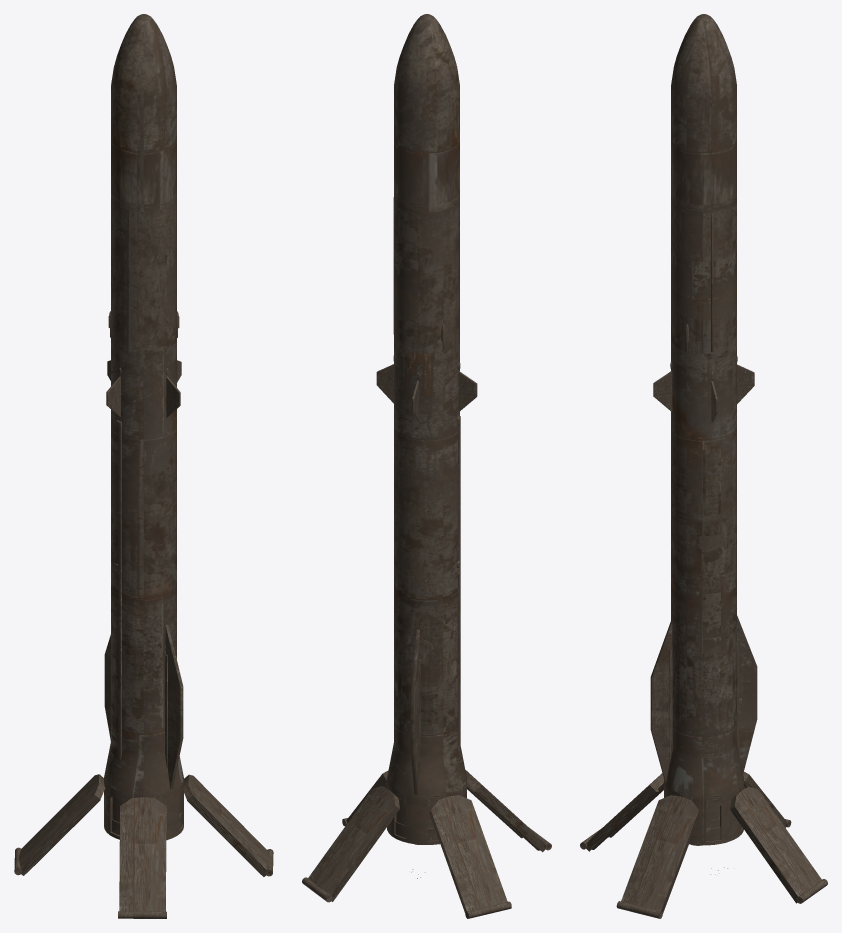
File: world-props.glb
The picture shows the model from 3 angles, left to right: view 1: azimuth 30°, elevation 25°; view 2: azimuth 150°, elevation 25°; view 3: azimuth 270°, elevation 25°; orthographic projection.
Parts seen in each view (by area): view 1: lander_Lander | NG | Object_4.006, lander_Lander | NG | Object_6.005, lander_Lander | NG | Object_141.001, lander_Lander | NG | Object_123.001, lander_Lander | deployed sourced leg 2.001, lander_Lander | deployed sourced leg 3.001, lander_Lander | deployed sourced leg 1.001, lander_Lander | NG | Object_138.001, lander_Lander | NG | Object_109.002, lander_Lander | NG | Object_5.006, lander_Lander | NG | Object_117.001; view 2: lander_Lander | NG | Object_4.006, lander_Lander | NG | Object_138.001, lander_Lander | NG | Object_6.005, lander_Lander | NG | Object_123.001, lander_Lander | deployed sourced leg 1.001, lander_Lander | deployed sourced leg 0.001, lander_Lander | NG | Object_117.001, lander_Lander | deployed sourced leg 2.001, lander_Lander | NG | Object_109.002, lander_Lander | NG | Object_83.001, lander_Lander | NG | Object_5.006; view 3: lander_Lander | NG | Object_4.006, lander_Lander | NG | Object_6.005, lander_Lander | NG | Object_141.001, lander_Lander | deployed sourced leg 3.001, lander_Lander | NG | Object_123.001, lander_Lander | NG | Object_138.001, lander_Lander | deployed sourced leg 0.001, lander_Lander | NG | Object_117.001, lander_Lander | NG | Object_13.005, lander_Lander | deployed sourced leg 2.001, lander_Lander | NG | Object_109.002, lander_Lander | NG | Object_18.003 (+3 smaller).
Boxes of the visible parts, box(x1,y1,x2,y2) form: lander_Lander | NG | Object_4.006: box(111, 411, 176, 748); lander_Lander | NG | Object_6.005: box(104, 340, 183, 840); lander_Lander | NG | Object_141.001: box(120, 14, 176, 211); lander_Lander | NG | Object_123.001: box(111, 208, 176, 344); lander_Lander | deployed sourced leg 2.001: box(119, 797, 166, 911); lander_Lander | deployed sourced leg 3.001: box(182, 774, 269, 876); lander_Lander | deployed sourced leg 1.001: box(18, 774, 105, 875); lander_Lander | NG | Object_138.001: box(111, 14, 145, 207); lander_Lander | NG | Object_109.002: box(108, 199, 179, 352); lander_Lander | NG | Object_5.006: box(111, 733, 164, 755); lander_Lander | NG | Object_117.001: box(167, 249, 176, 314); lander_Lander | NG | Object_4.006: box(394, 413, 460, 752); lander_Lander | NG | Object_138.001: box(394, 15, 458, 212); lander_Lander | NG | Object_6.005: box(387, 341, 466, 844); lander_Lander | NG | Object_123.001: box(393, 197, 459, 345); lander_Lander | deployed sourced leg 1.001: box(429, 795, 507, 912); lander_Lander | deployed sourced leg 0.001: box(308, 786, 399, 901); lander_Lander | NG | Object_117.001: box(393, 250, 417, 318); lander_Lander | deployed sourced leg 2.001: box(465, 770, 545, 852); lander_Lander | NG | Object_109.002: box(394, 200, 459, 353); lander_Lander | NG | Object_83.001: box(458, 371, 477, 411); lander_Lander | NG | Object_5.006: box(394, 732, 460, 757); lander_Lander | NG | Object_4.006: box(671, 413, 736, 747); lander_Lander | NG | Object_6.005: box(650, 342, 757, 845); lander_Lander | NG | Object_141.001: box(671, 14, 712, 212); lander_Lander | deployed sourced leg 3.001: box(621, 795, 700, 913); lander_Lander | NG | Object_123.001: box(671, 209, 736, 352); lander_Lander | NG | Object_138.001: box(703, 14, 736, 211); lander_Lander | deployed sourced leg 0.001: box(730, 786, 821, 903); lander_Lander | NG | Object_117.001: box(671, 250, 736, 319); lander_Lander | NG | Object_13.005: box(702, 449, 723, 757); lander_Lander | deployed sourced leg 2.001: box(586, 773, 663, 851); lander_Lander | NG | Object_109.002: box(671, 200, 736, 353); lander_Lander | NG | Object_18.003: box(669, 642, 739, 762).
Bounding box in the file's own units: 23.13 × 87.95 × 23.13.
Materials: 4 (4 with a texture image).
